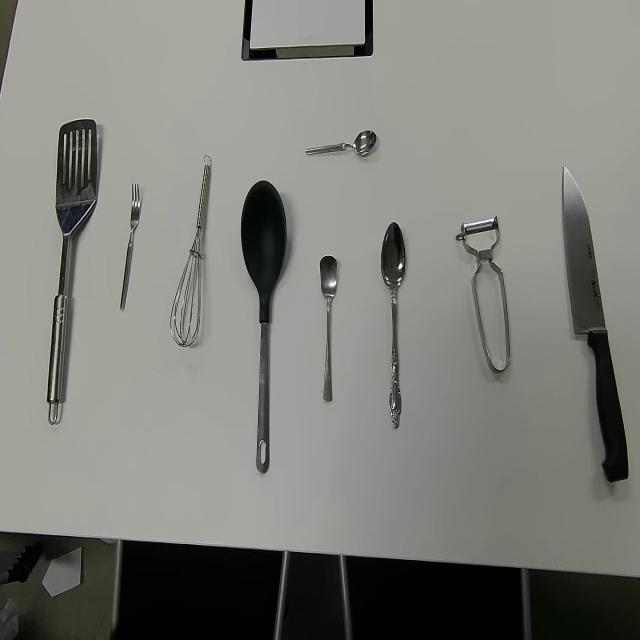Desert-Spoon: (380, 220, 407, 429)
Dinner-Fork: (119, 182, 141, 313)
Kitchen-Knife: (562, 165, 630, 484)
Peeler: (454, 213, 510, 374)
Serving-Spoon: (46, 116, 98, 426), (240, 178, 288, 475)
Tea-Spoon: (319, 254, 338, 403), (304, 128, 378, 158)
Whisk: (170, 153, 212, 347)
